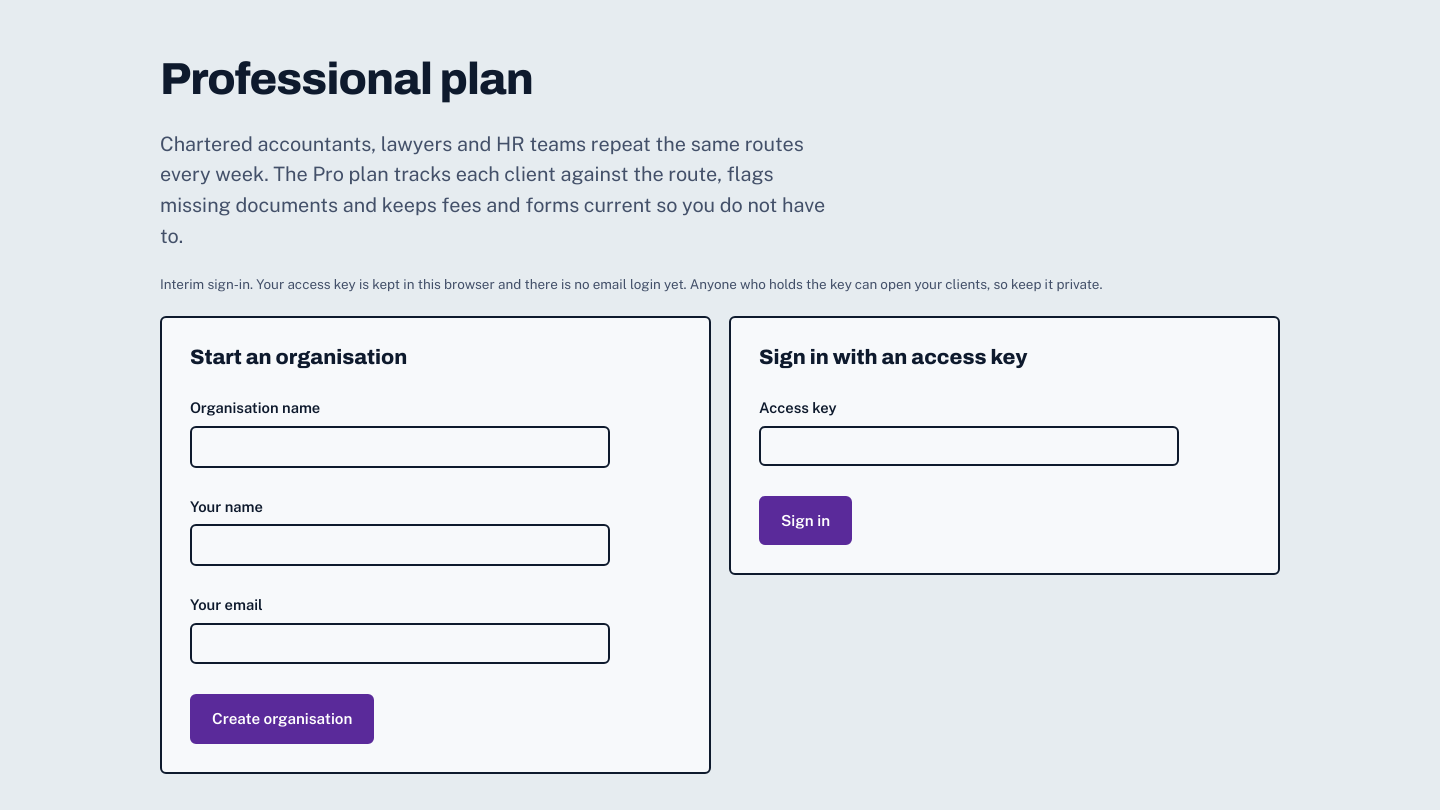
it: Pro: signing in › says so when the access key is wrong
Type "pp_member_wrong" into the password field labelled "Access key".
click(969, 446); type("pp_member_wrong")  # box [759,426,1179,466]
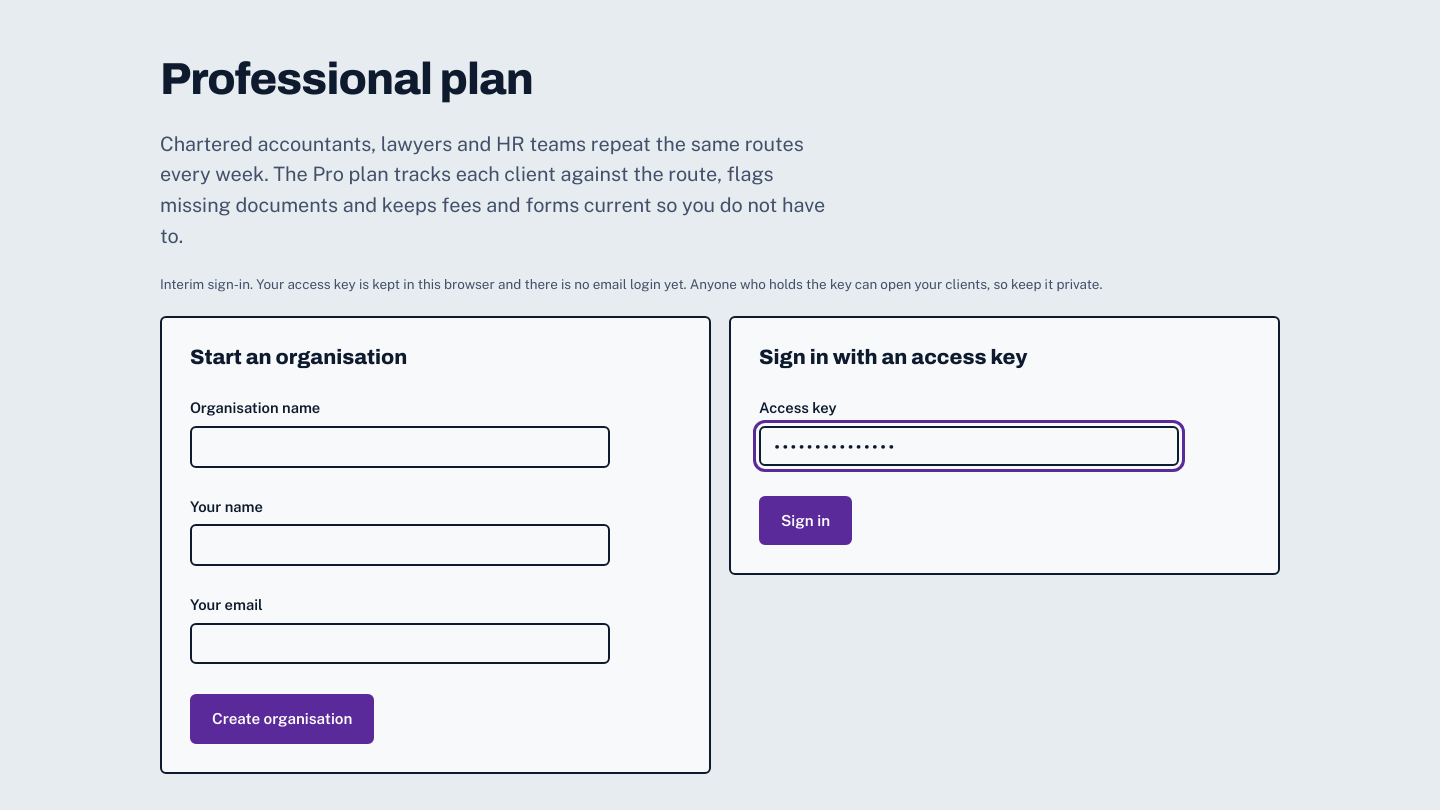
Click the button "Sign in".
click(806, 520)  # box [759,496,852,545]
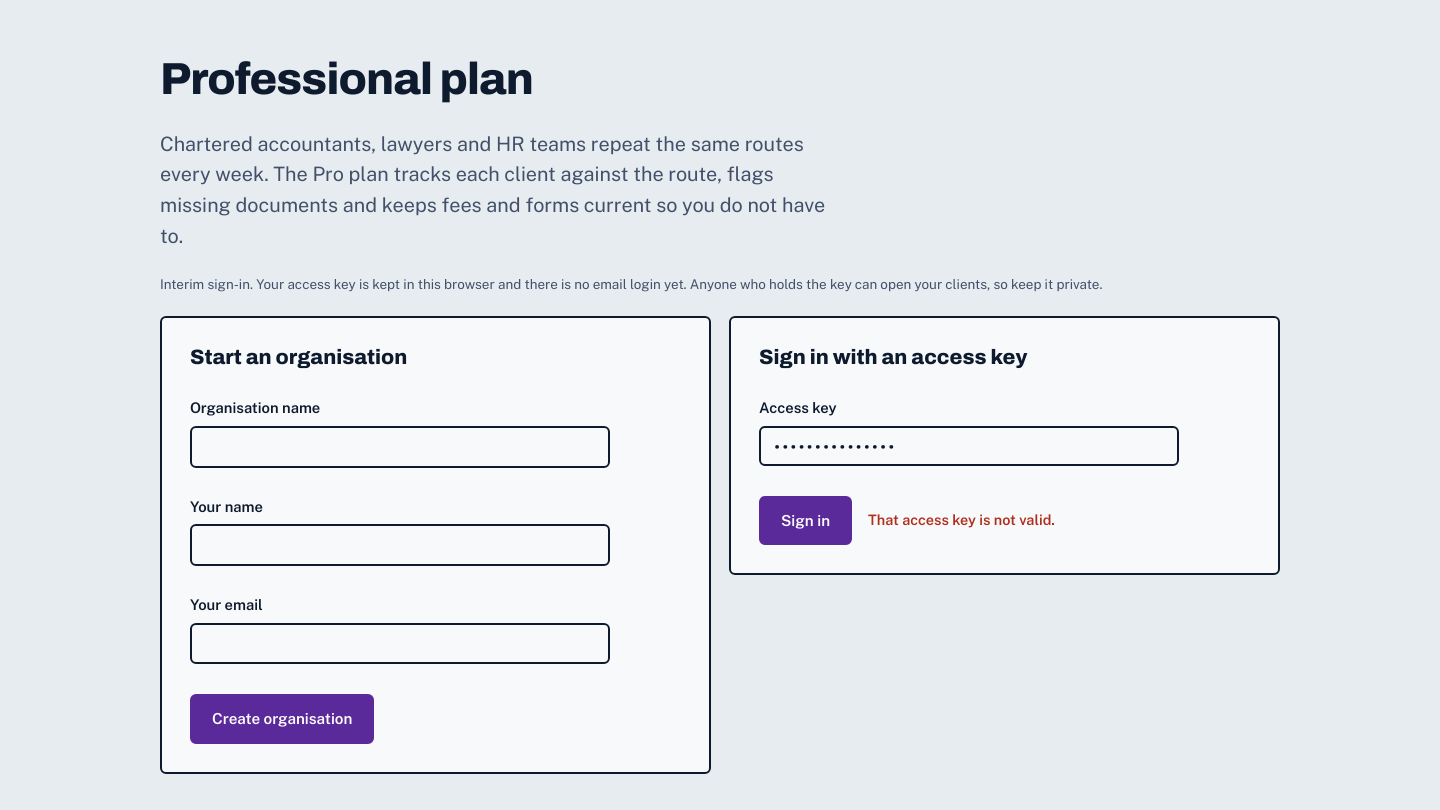
Result: the text "That access key is not valid." is shown at [868,509,1055,532]
